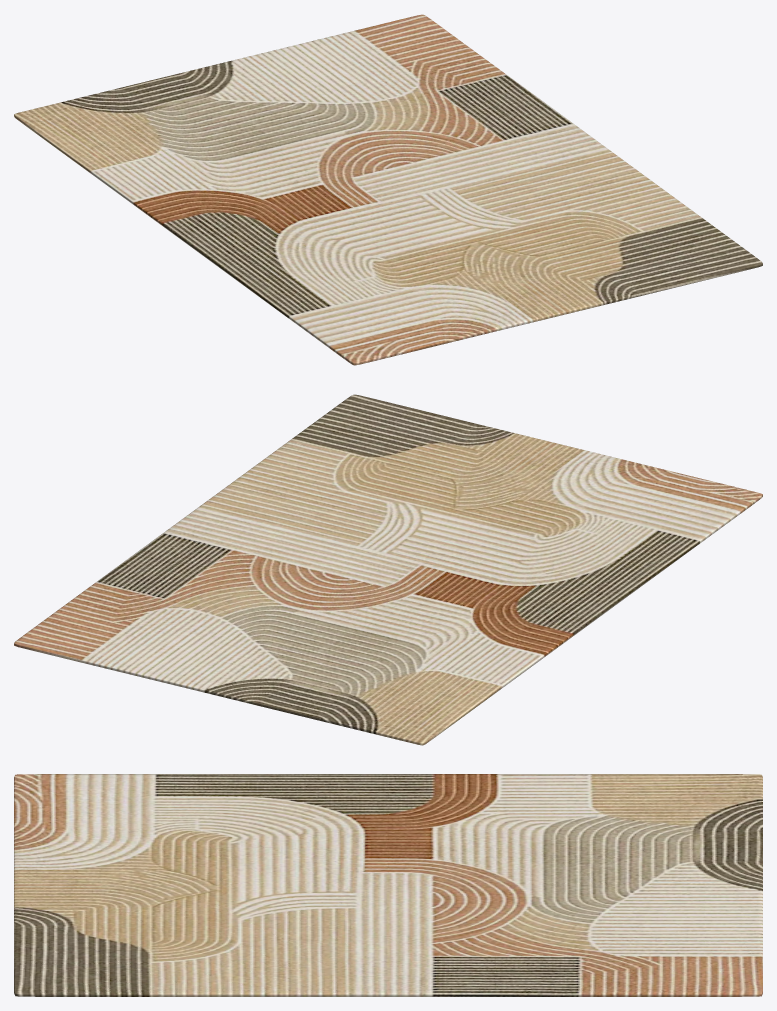
The model's file is rugModern.glb.
3 renders of one model, top to bottom at view 1: azimuth 30°, elevation 25°; view 2: azimuth 150°, elevation 25°; view 3: azimuth 270°, elevation 25°, orthographic. The views are drawn at different scales.
Visible parts, largest first — view 1: Modern Rug; view 2: Modern Rug; view 3: Modern Rug.
Part boxes in pixels (left/top/right/bottom): Modern Rug: left=14, top=14, right=762, bottom=365; Modern Rug: left=14, top=394, right=762, bottom=745; Modern Rug: left=14, top=774, right=762, bottom=996.
Bounding box in the file's own units: 1.6 × 0.0119 × 2.3.
Materials: 1 (1 with a texture image).
